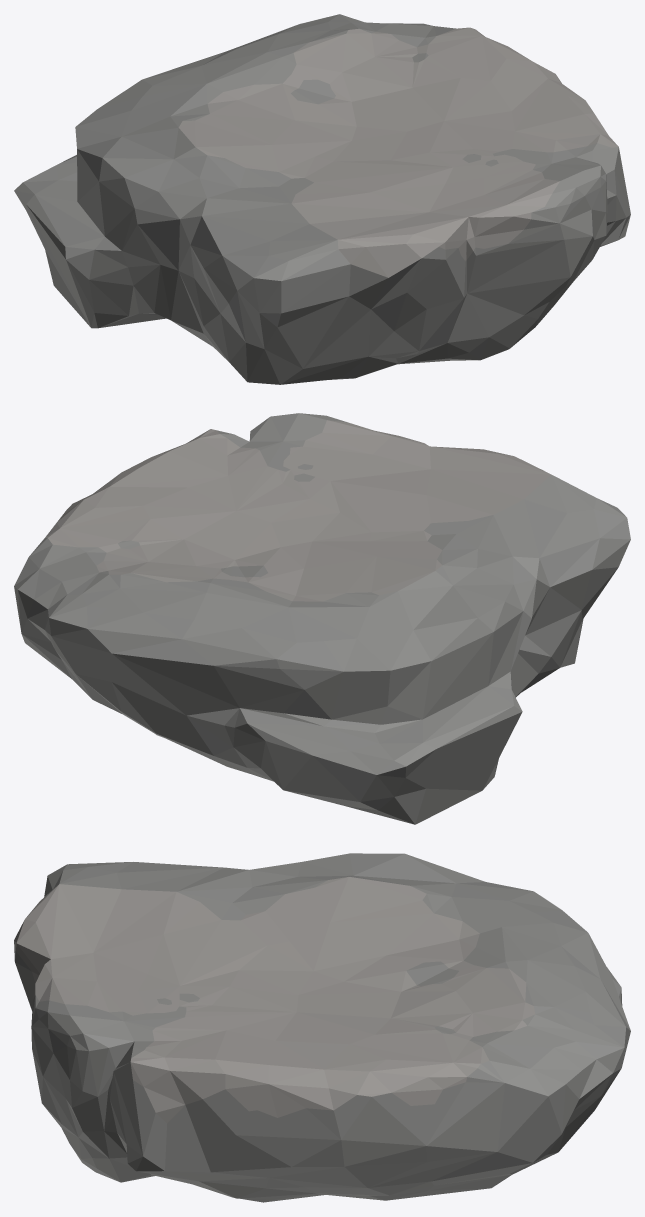
The model's file is Cavern_Floor_Wide_Corner-01.fbx.
3 views of the same model, one above another, from view 1: azimuth 30°, elevation 25°; view 2: azimuth 150°, elevation 25°; view 3: azimuth 270°, elevation 25° (orthographic). The views are drawn at different scales.
Visible parts, largest first — view 1: Cavern_Floor_Wide_Corner-01; view 2: Cavern_Floor_Wide_Corner-01; view 3: Cavern_Floor_Wide_Corner-01.
Boxes of the visible parts, left/top/right/bottom form: Cavern_Floor_Wide_Corner-01: left=14, top=14, right=630, bottom=384; Cavern_Floor_Wide_Corner-01: left=14, top=413, right=630, bottom=824; Cavern_Floor_Wide_Corner-01: left=14, top=853, right=630, bottom=1202.
Bounding box in the file's own units: 1705 × 637 × 1706.
1 material, 1 textured.
